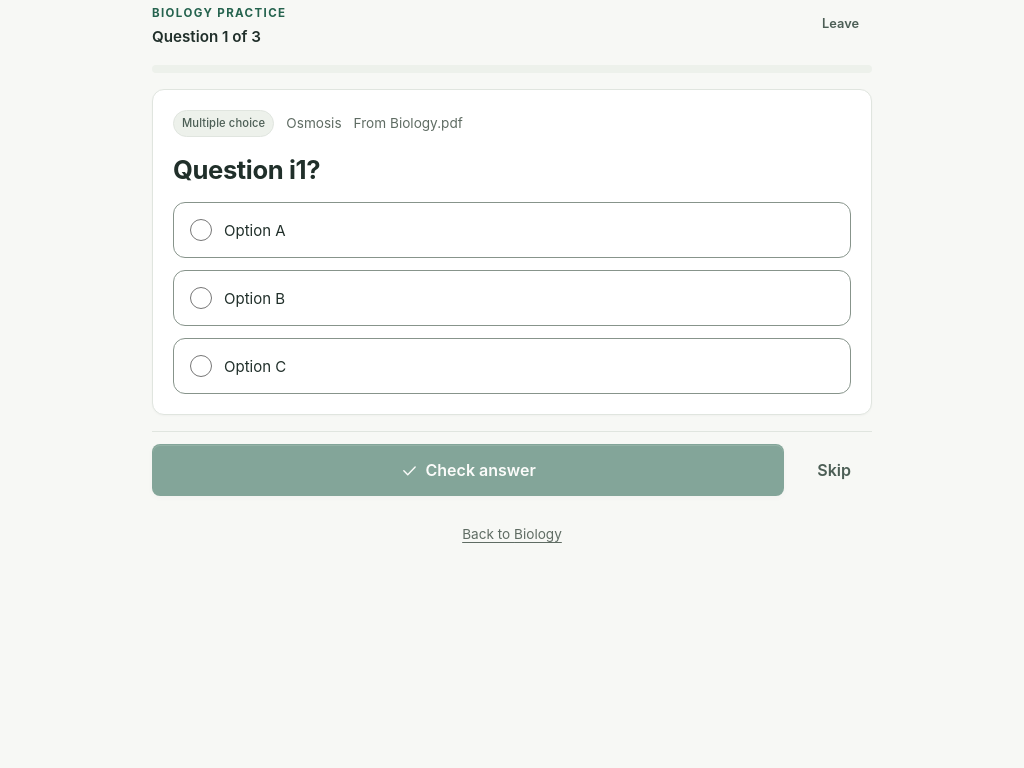
practice session › checks the answer, then shows instant feedback with explanation, concept, mastery and source
Click the radio button labelled "Option B": (201, 298) [190,287,212,309]
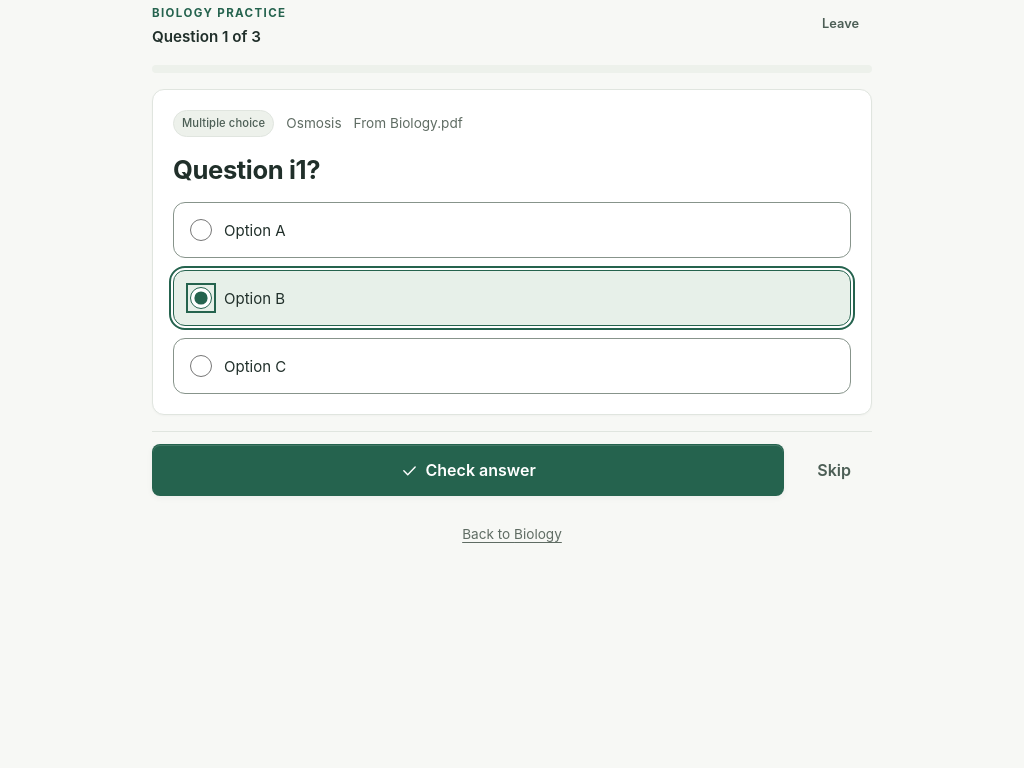
Click the button "Check answer": (468, 470) [152,444,784,496]
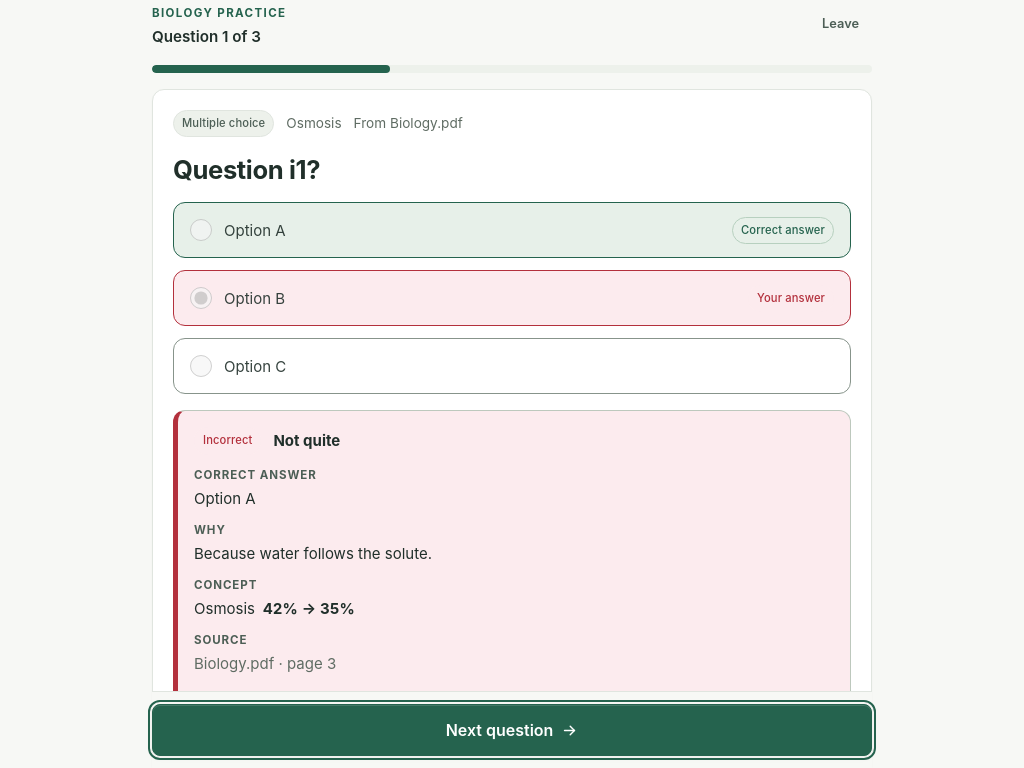
Expected: the radio button labelled "Option A Correct answer" is disabled, [190,219,212,241]
Now the text "Not quite" is shown, box [273,430,340,453]
Now the text named "Mastery 42% to 35%" is shown, box [263,597,355,620]
